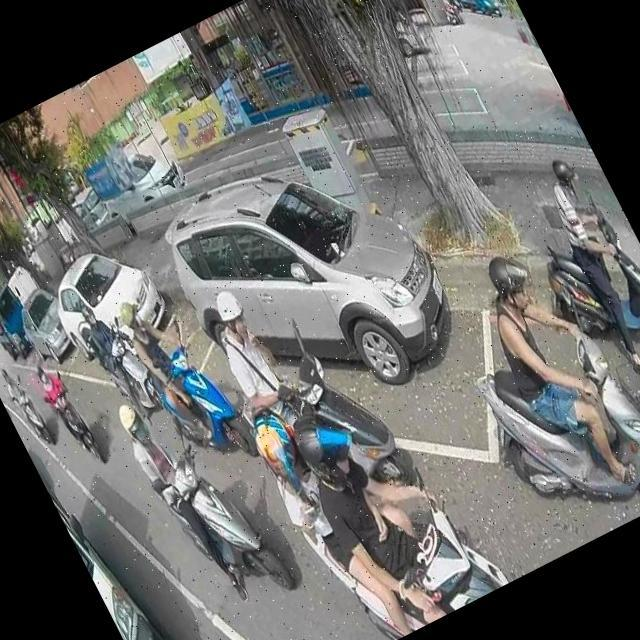person: (280, 376, 493, 640), (241, 375, 452, 640), (457, 228, 640, 513), (110, 382, 259, 616), (525, 146, 640, 385), (195, 281, 315, 451), (114, 280, 229, 450), (70, 298, 154, 426), (30, 354, 96, 449), (0, 362, 50, 441), (439, 0, 461, 21)
